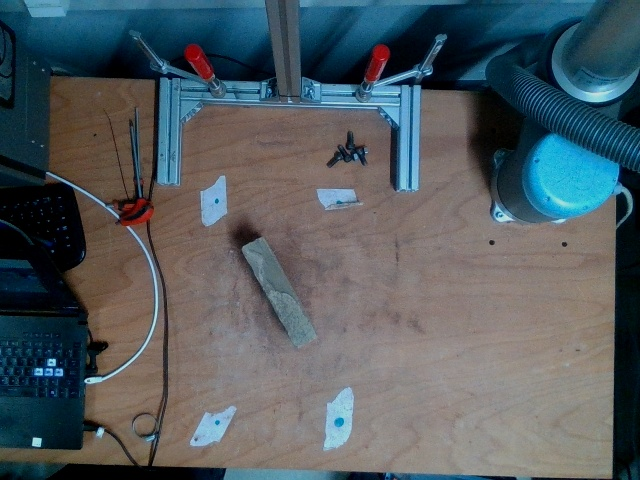brick-side: (241, 236, 315, 348)
